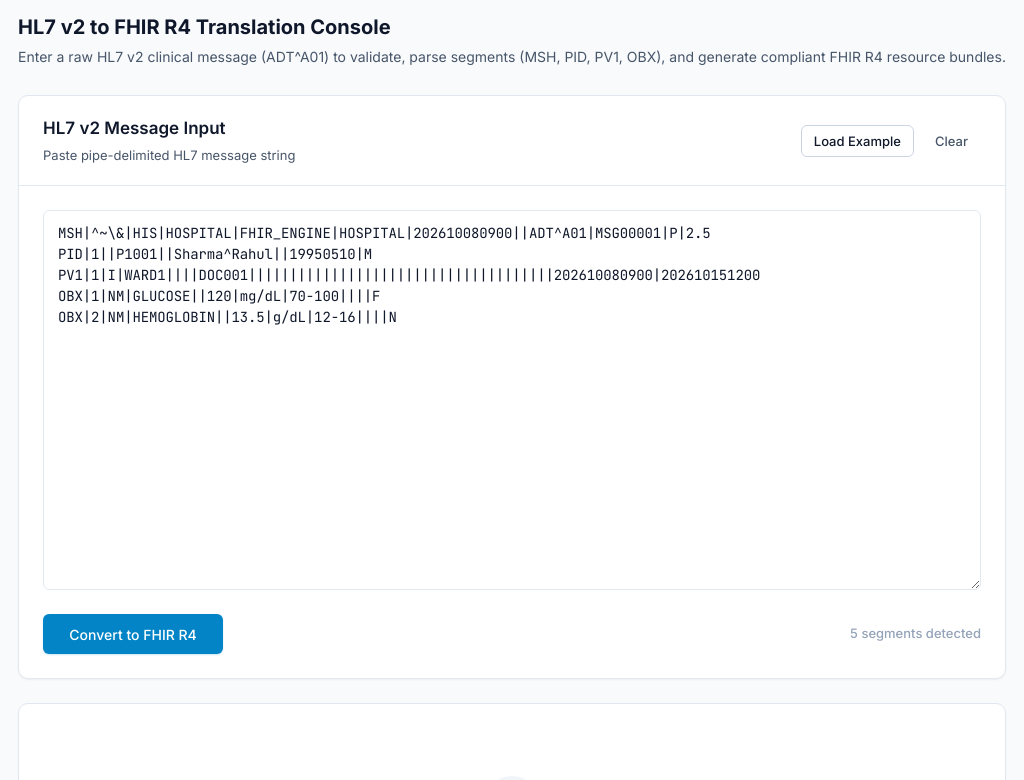
ConvertPage › renders with sample HL7 message and allows clearing input
Click the button "Clear" at (952, 140), box [922, 124, 981, 156]
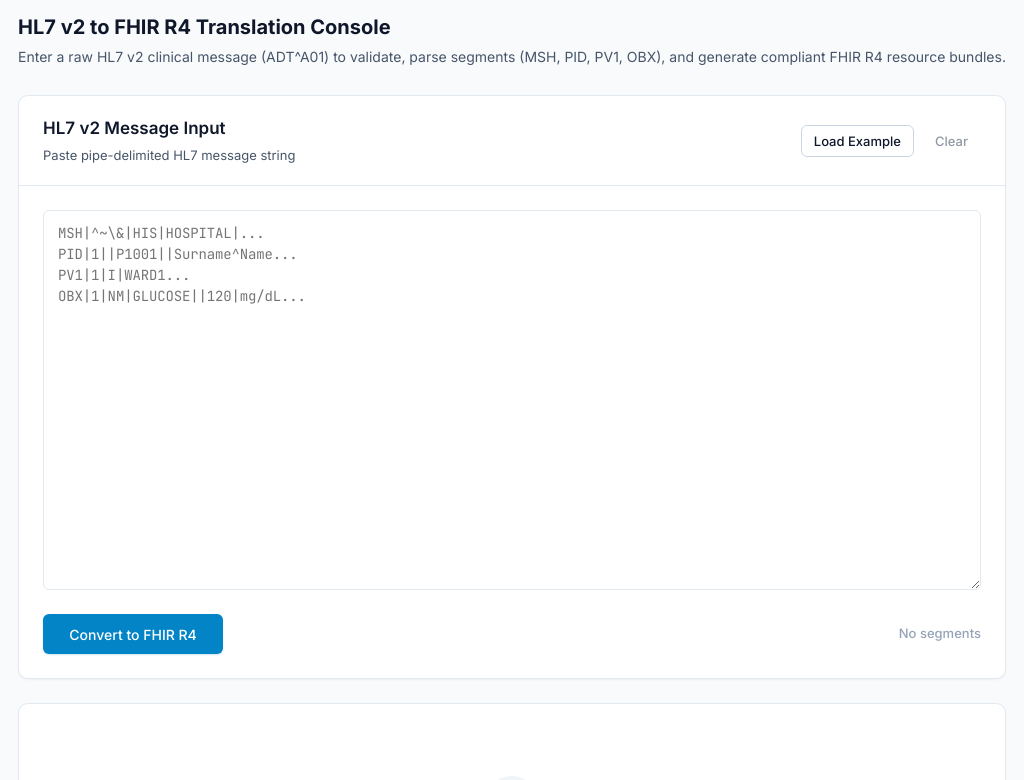
Now the text box with id "hl7Input" is empty, box [43, 210, 981, 590]
